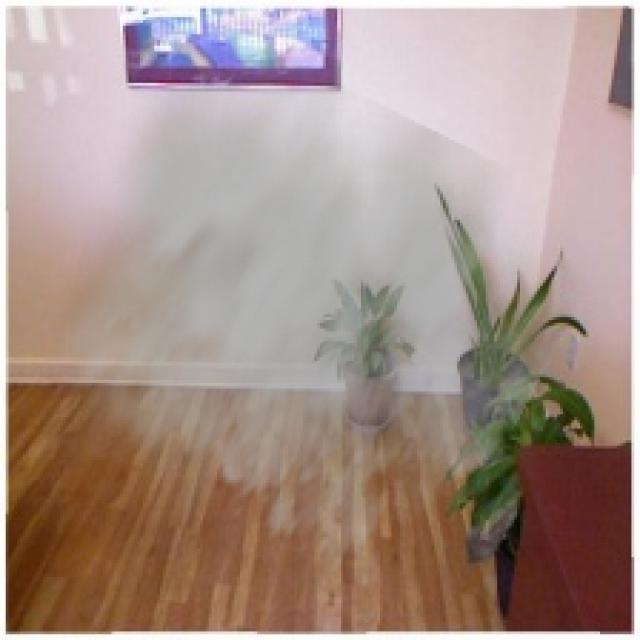Smoke: (37, 20, 577, 577)
